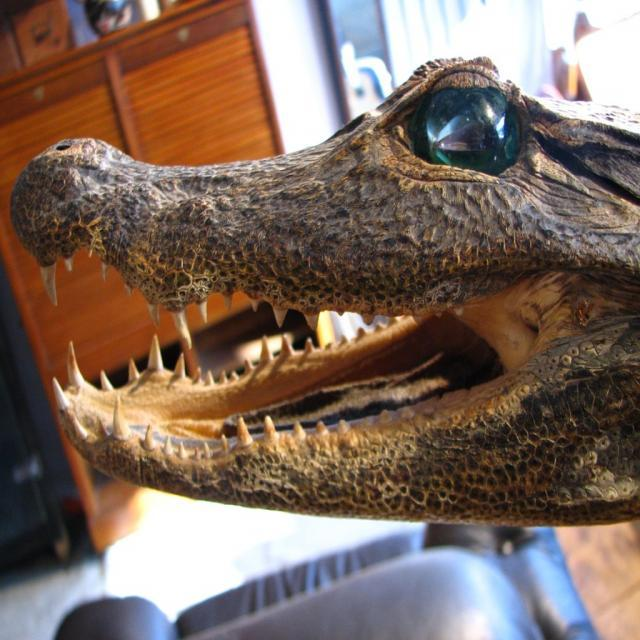crocodile: (13, 56, 639, 527)
